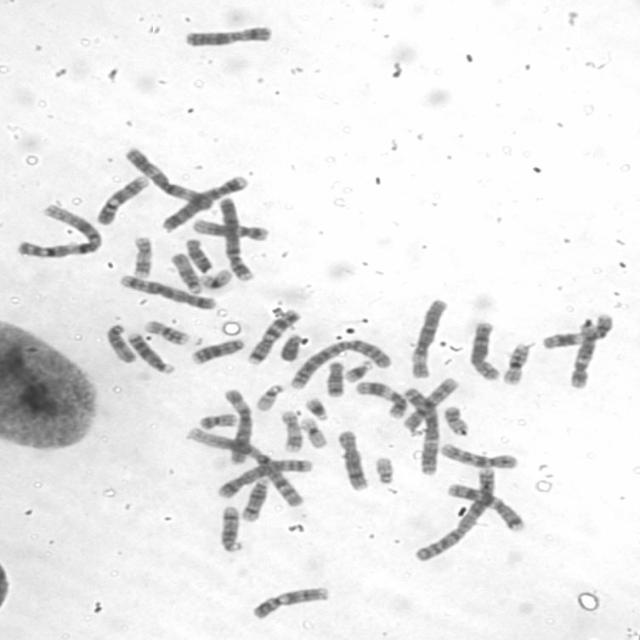A1: (182, 427, 306, 509), (12, 203, 104, 259)
A2: (411, 467, 499, 563), (289, 339, 393, 391)
A3: (122, 146, 214, 211), (402, 386, 441, 475)
B4: (159, 175, 248, 233), (218, 197, 255, 282)
B5: (218, 458, 317, 501), (118, 274, 219, 312)
C10: (402, 376, 460, 432), (439, 442, 517, 469)
C11: (540, 313, 615, 351), (356, 380, 409, 421)
C12: (566, 320, 601, 390), (191, 216, 269, 242)
C6: (411, 298, 448, 380), (221, 390, 253, 465)
C7: (443, 482, 525, 531), (246, 308, 302, 364)
C8: (334, 430, 371, 492), (468, 321, 499, 382)
C9: (249, 585, 331, 622), (95, 174, 151, 226)
D13: (124, 330, 176, 375), (188, 338, 246, 367)
D14: (240, 476, 268, 522), (219, 506, 245, 553)
D15: (167, 250, 206, 296), (106, 322, 138, 364)
E16: (140, 319, 191, 346), (501, 342, 531, 386)
E17: (129, 234, 156, 278), (280, 408, 304, 453)
E18: (183, 237, 215, 275), (325, 361, 346, 399)
F19: (298, 416, 329, 450), (198, 269, 235, 291)
F20: (443, 404, 470, 437), (197, 412, 239, 430)
G21: (343, 361, 372, 386), (304, 397, 330, 421)
G22: (255, 383, 284, 413), (371, 455, 398, 485)
X: (184, 23, 276, 51)
Y: (277, 332, 302, 363)
